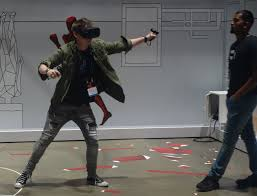oculus: (74, 25, 101, 40)
